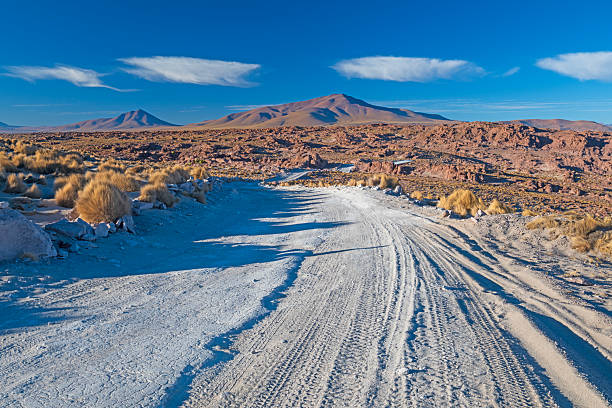vehicle_track: (186, 189, 568, 406), (189, 202, 413, 405), (410, 230, 553, 405)
